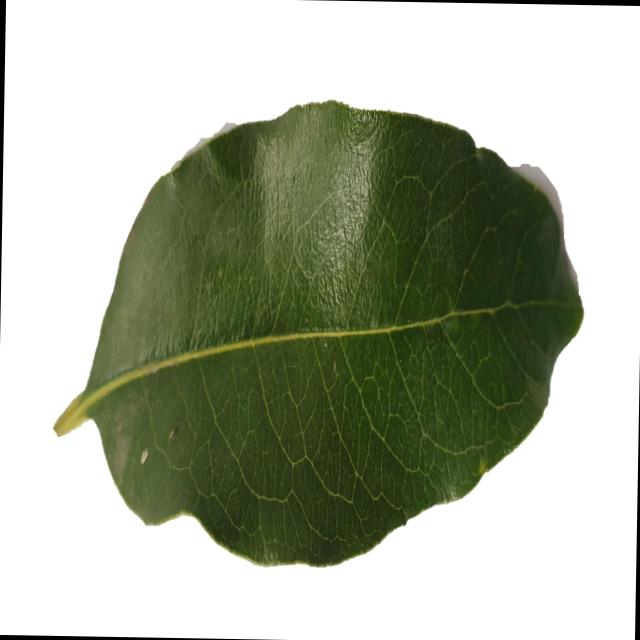Medicinal-Sandalwood: (50, 93, 588, 577)
